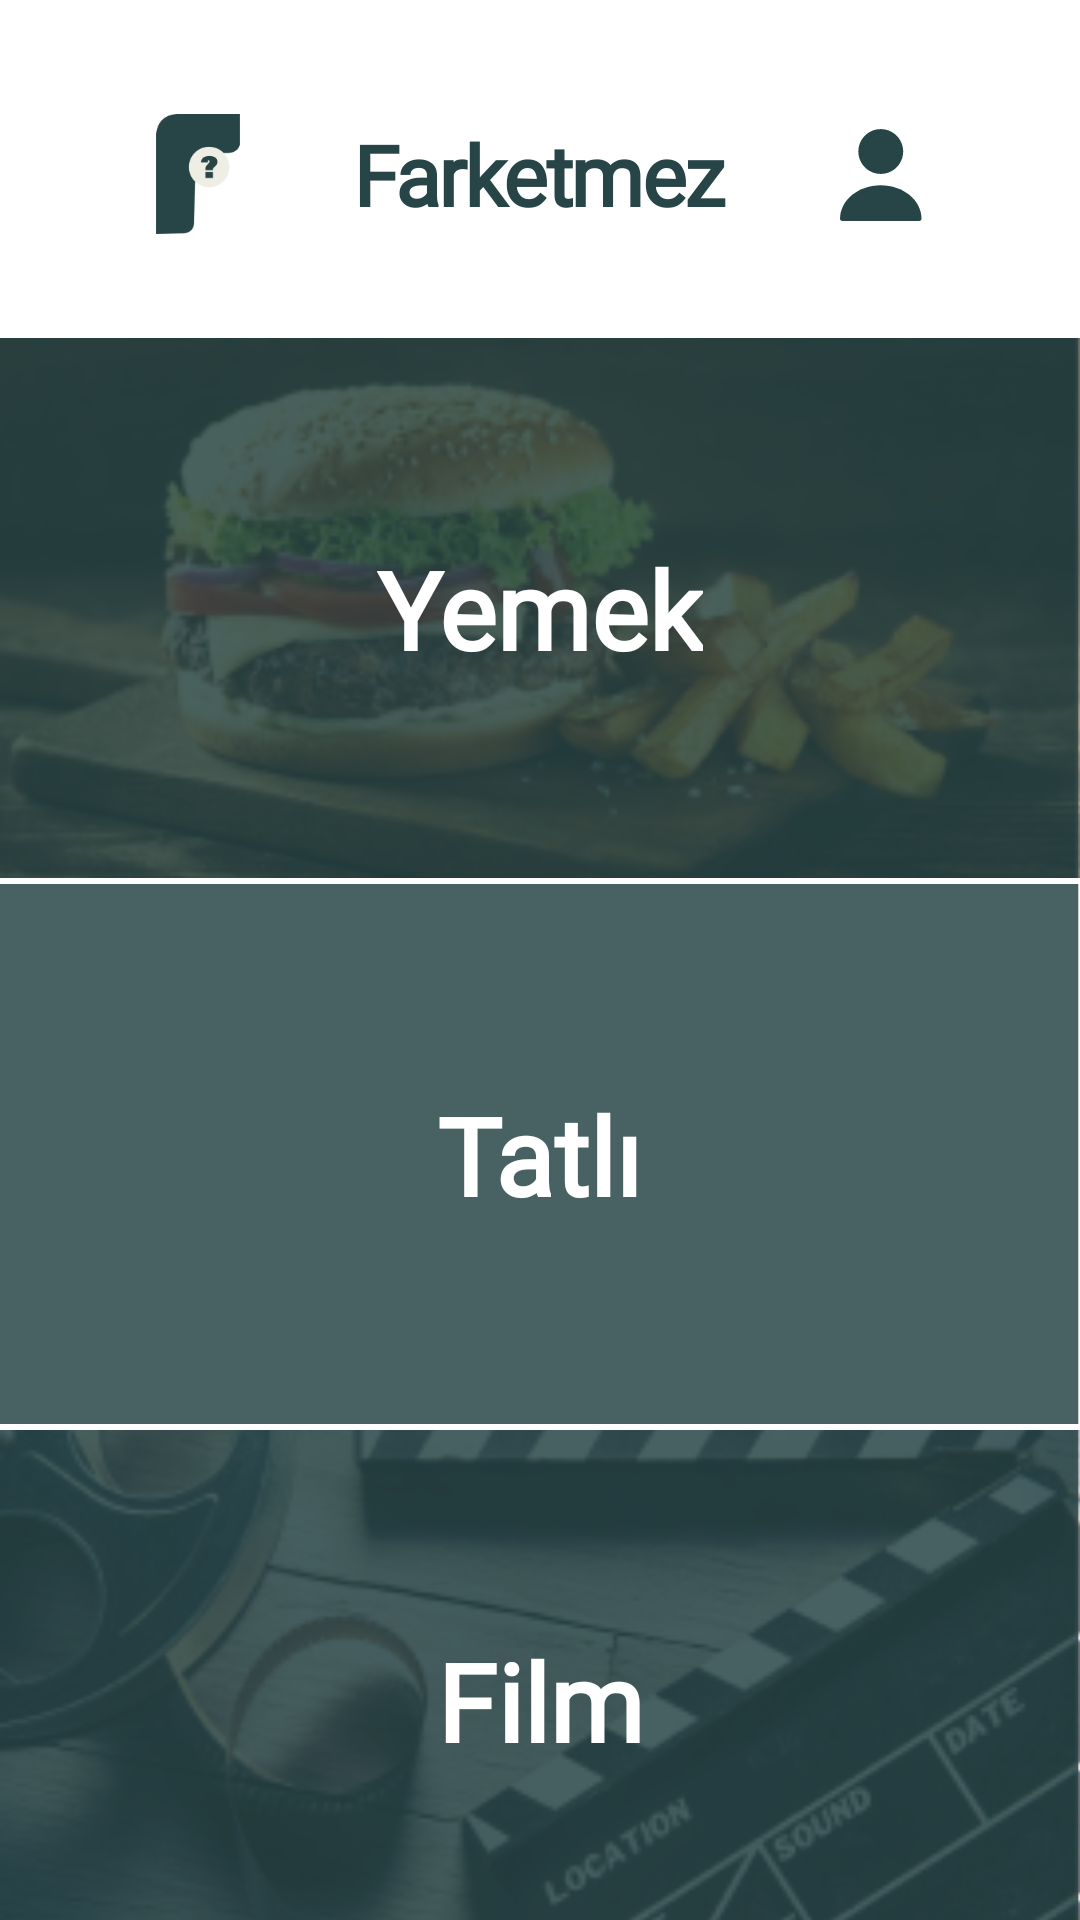

Point at icon controls on the screen. Image size 1080*1920, points as (x=x, y=y).
profile: (x=881, y=175)
